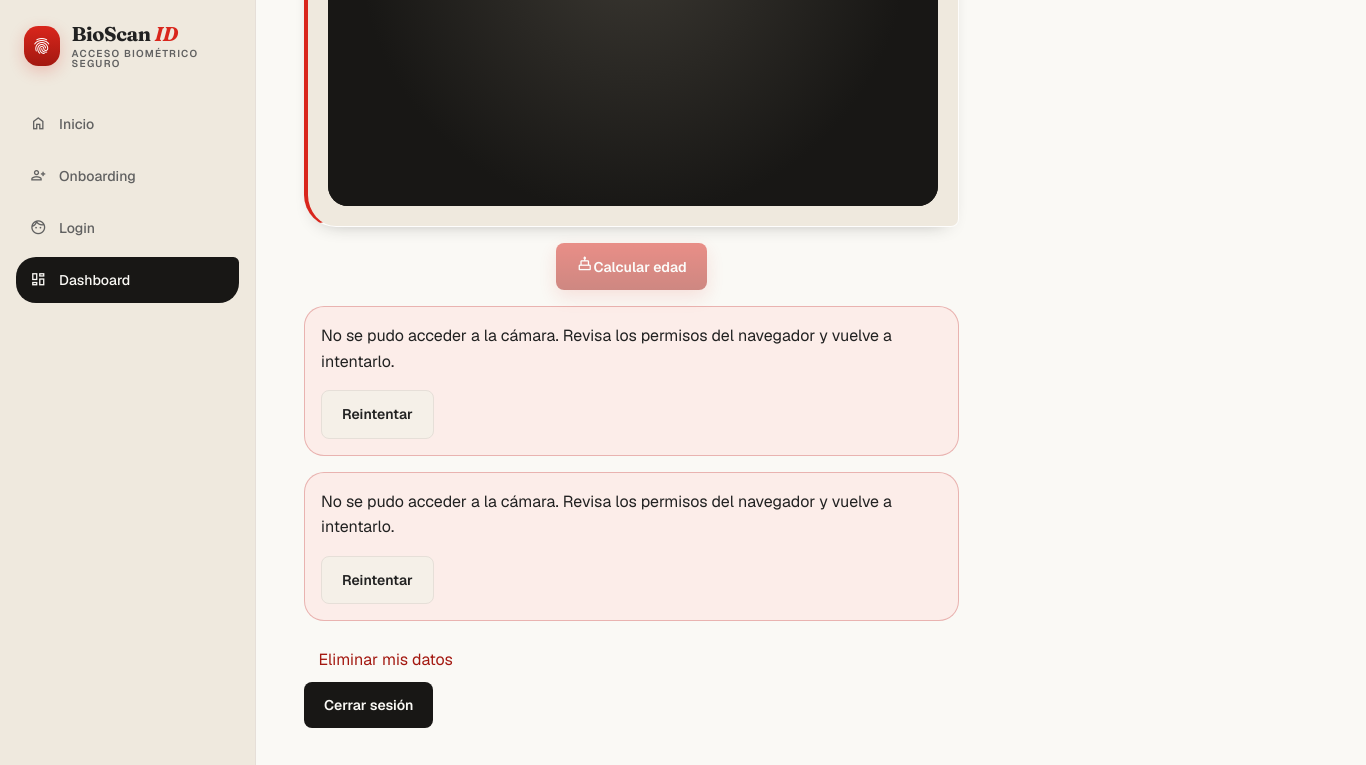
Dashboard deletion UI (spec 006) › confirm dialog appears on button press; cancel leaves the dashboard unchanged
(page scrolled)
Step 1. Click the button with test id "delete-face-data-button" → [386, 660], box x1=304 y1=637 x2=467 y2=682
(page scrolled)
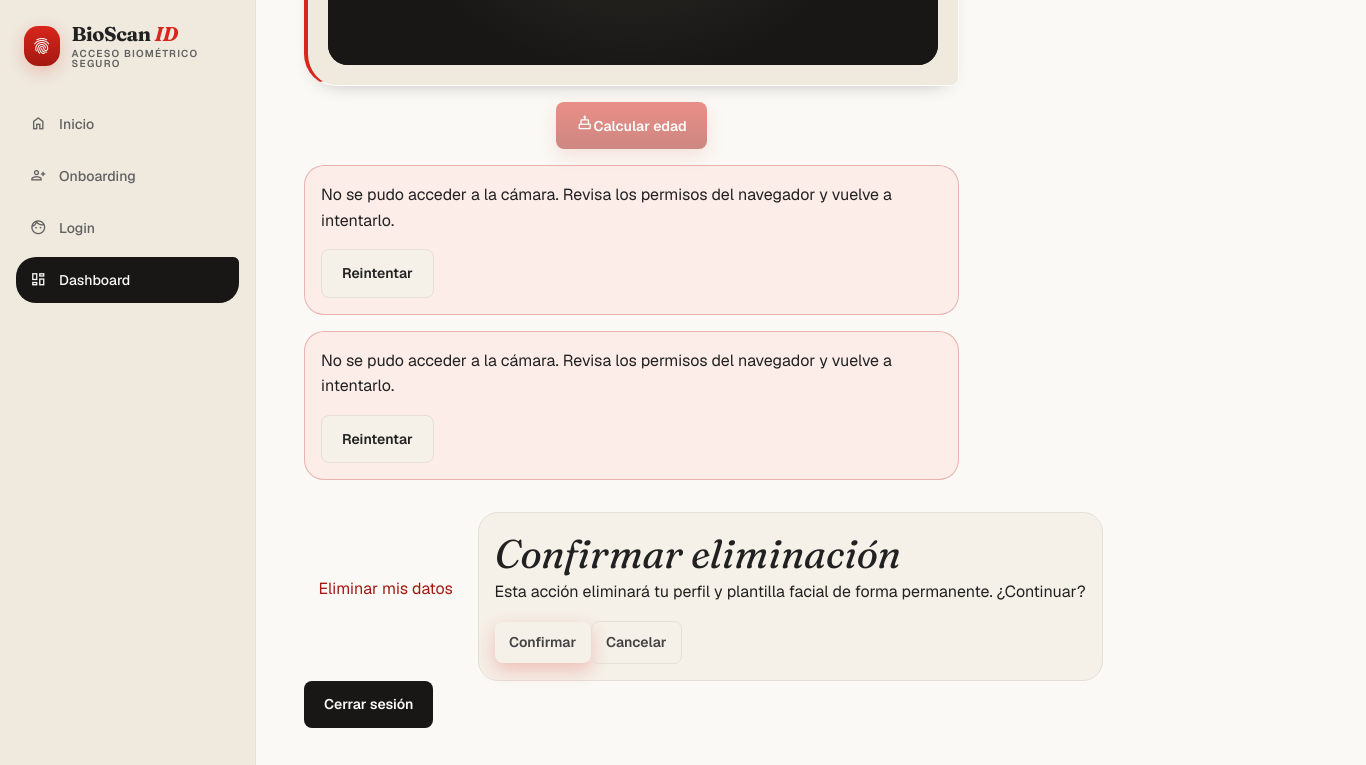
Check: the dialog with test id "delete-confirm-dialog" is shown, box x1=478 y1=512 x2=1103 y2=681
Check: the text with test id "delete-confirm-message" shows "Esta acción eliminará tu perfil y plantilla facial de forma permanente. ¿Continuar?", box x1=495 y1=581 x2=1086 y2=602
Cancel → no request, dashboard unchanged.
Step 2. Click the button with test id "delete-cancel-button" → [636, 643], box x1=591 y1=621 x2=682 y2=664
(page scrolled)
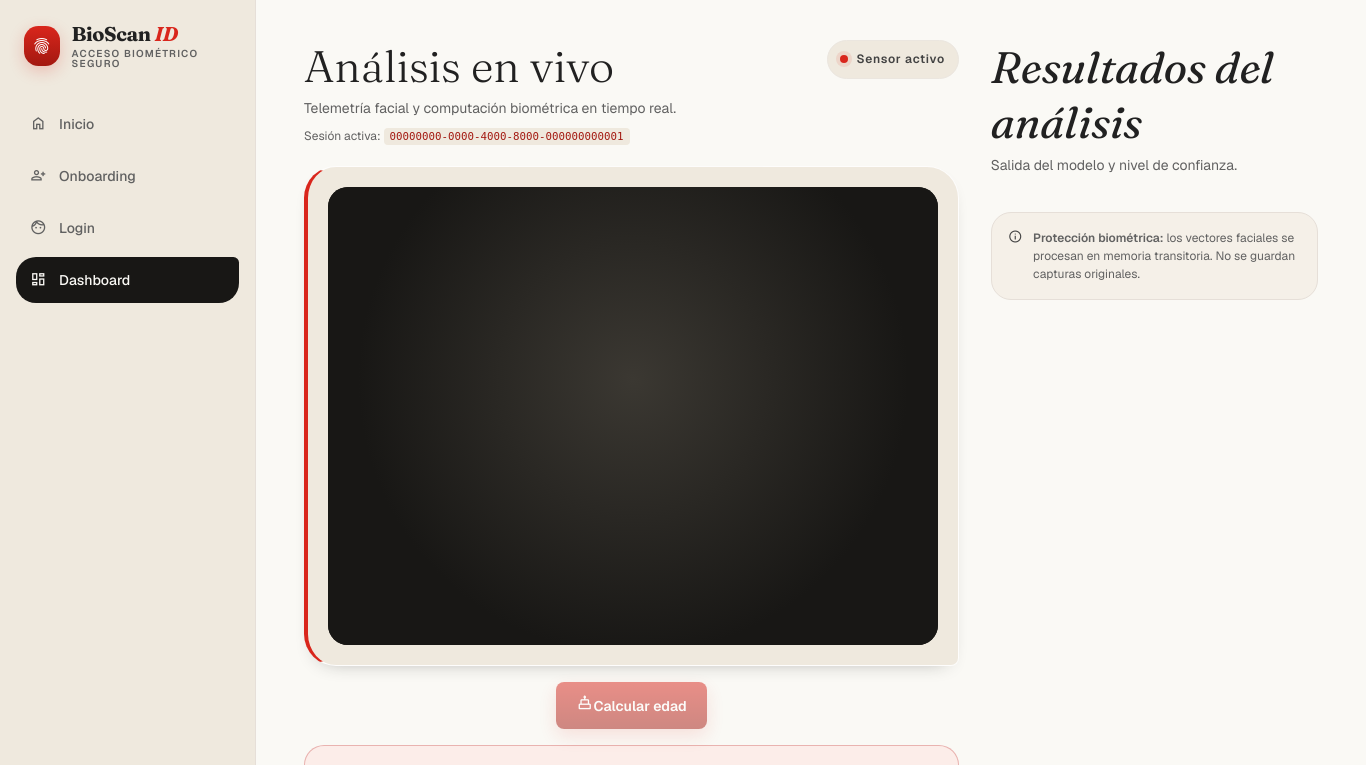
Check: the heading "Análisis en vivo" is shown, box x1=304 y1=39 x2=614 y2=93
Check: the dialog with test id "delete-confirm-dialog" is gone
